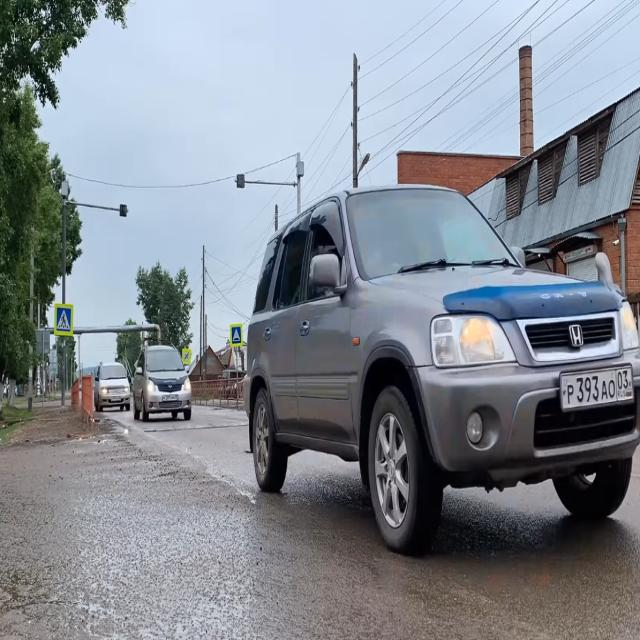non emergency car: (242, 183, 639, 555), (131, 345, 194, 427), (95, 361, 131, 412)
